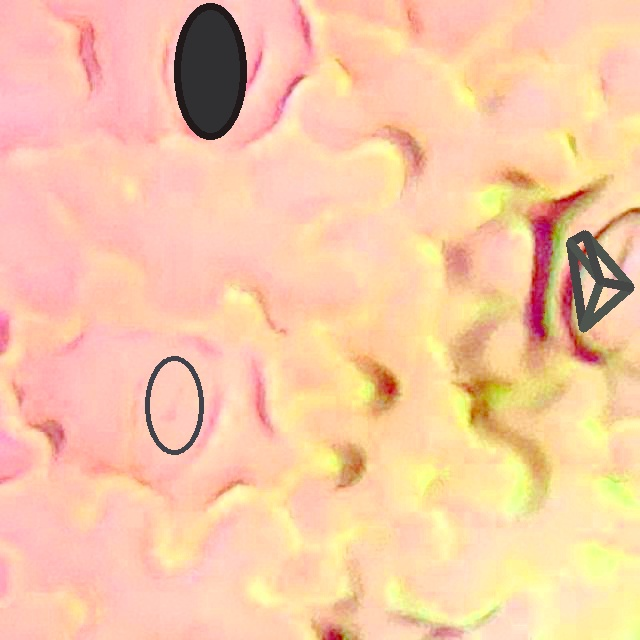close: (566, 231, 634, 331), (144, 355, 205, 455)
open: (173, 2, 246, 139)
